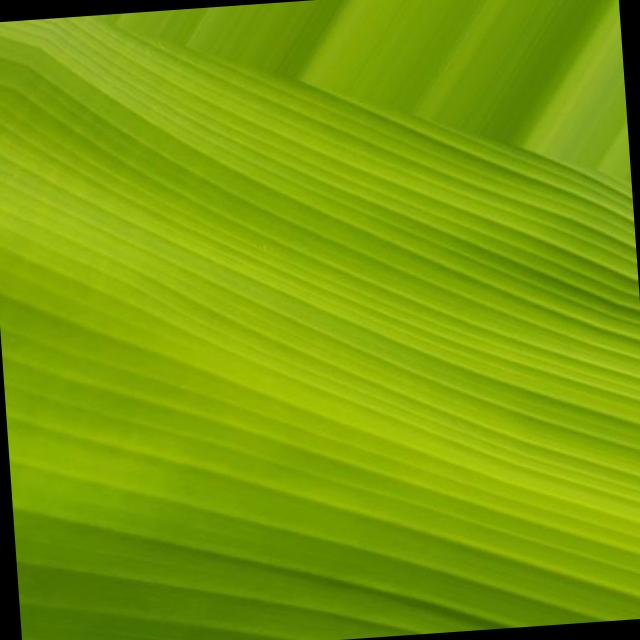Banana_Healthy: (101, 114, 558, 566)
